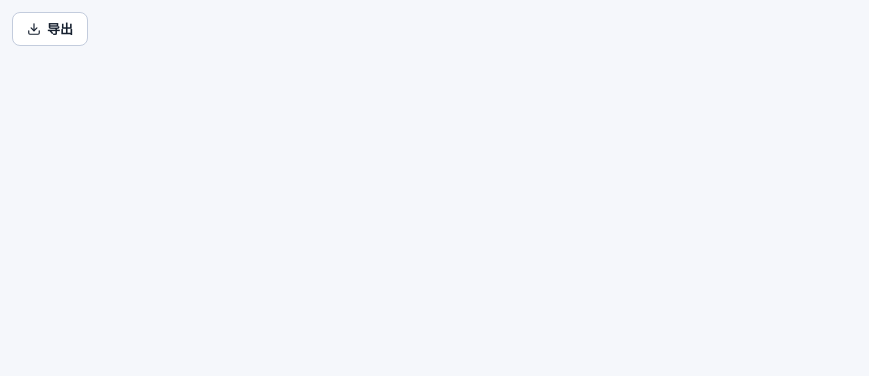
Test: 导出组件 › 展开后能选格式与字段
Click the button "导出" at (50, 29), box [12, 12, 88, 46]
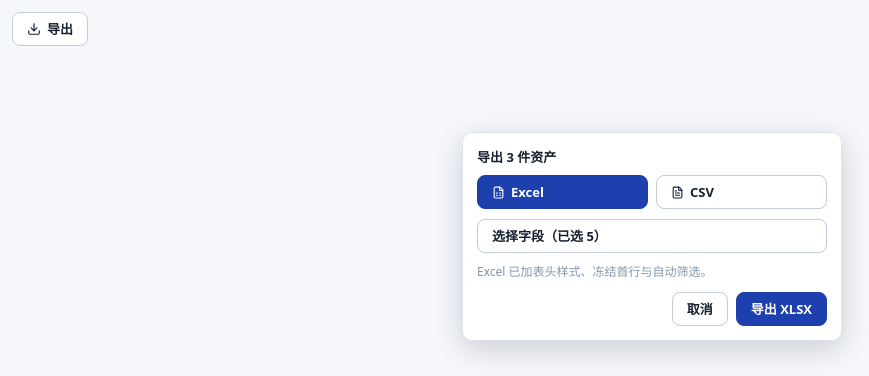
Now the button "Excel" is shown, box [477, 175, 648, 209]
Now the button "CSV" is shown, box [656, 175, 827, 209]
